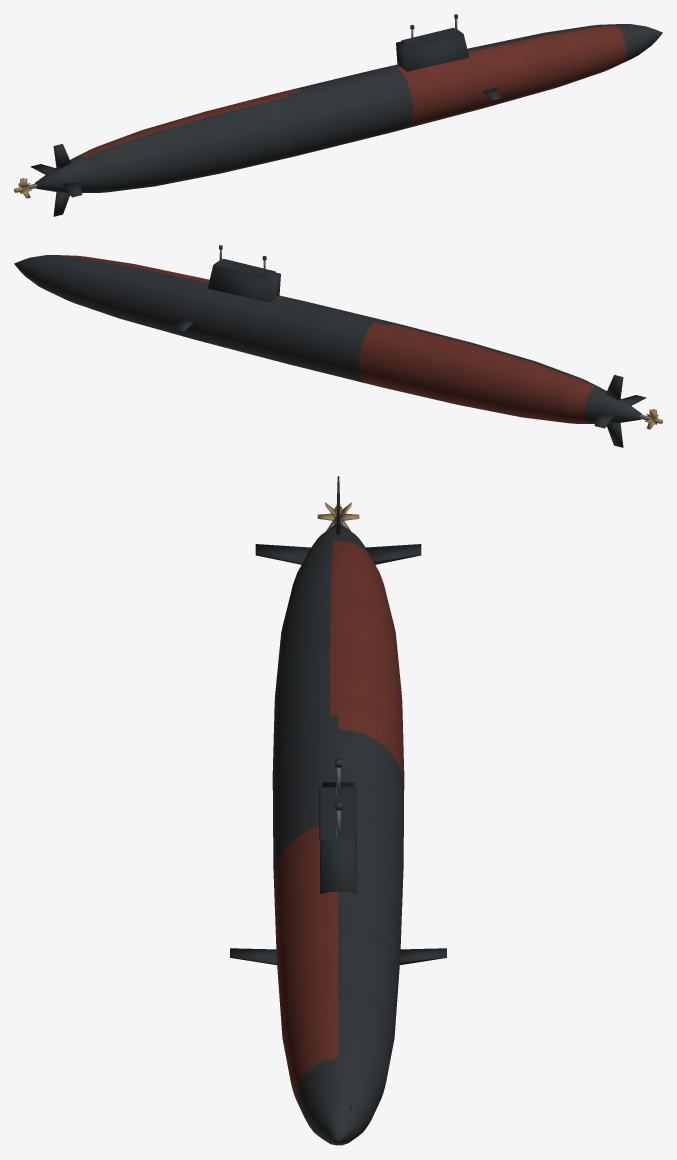
The model's file is US_SSN_LosAngeles_LOD2.fbx.
3 views of the same model, one above another, from view 1: azimuth 30°, elevation 25°; view 2: azimuth 150°, elevation 25°; view 3: azimuth 270°, elevation 25° (orthographic). The views are drawn at different scales.
Visible parts, largest first — view 1: US_SSN_LosAngeles_LOD2; view 2: US_SSN_LosAngeles_LOD2; view 3: US_SSN_LosAngeles_LOD2.
Boxes of the visible parts, box(x1,y1,x2,y2) form: US_SSN_LosAngeles_LOD2: box(14, 14, 662, 216); US_SSN_LosAngeles_LOD2: box(14, 245, 662, 447); US_SSN_LosAngeles_LOD2: box(230, 476, 446, 1145).
Size of the model in its own units: 114 by 16.48 by 17.36.
6 materials, 1 textured.
